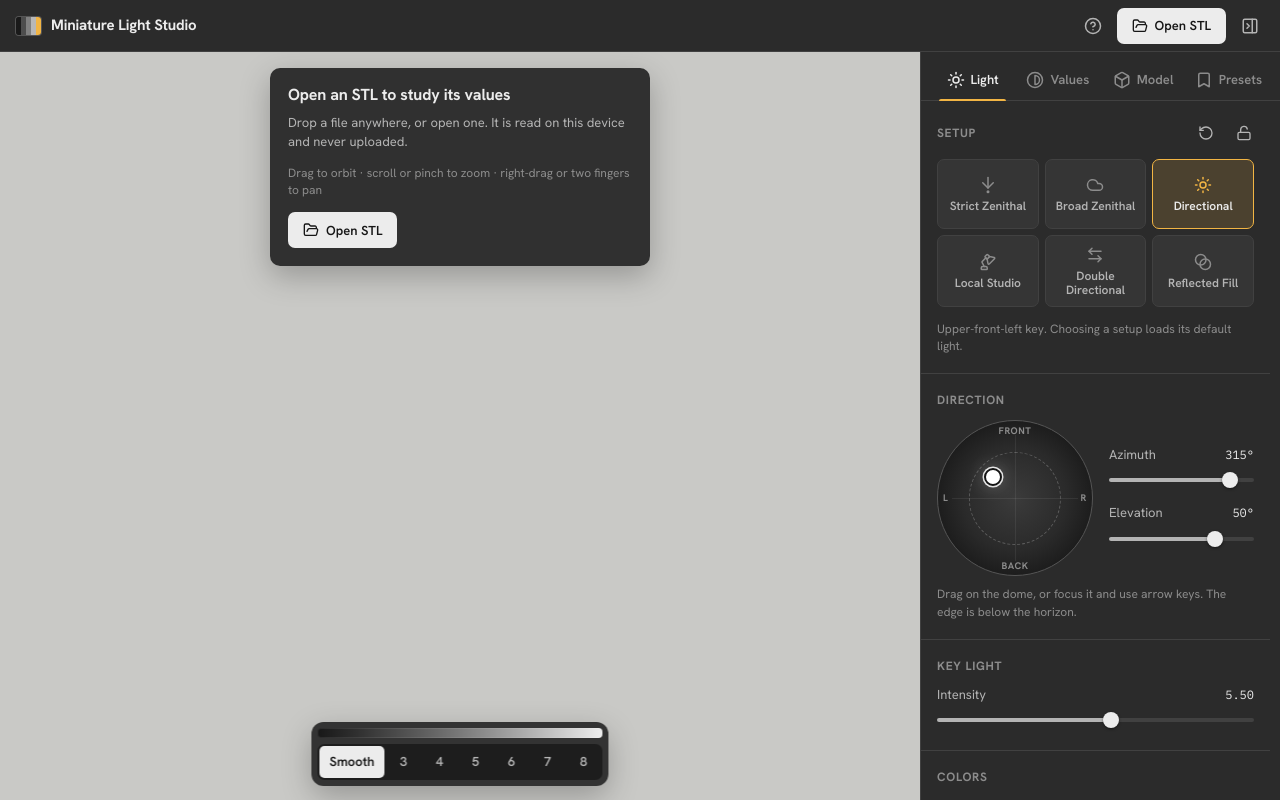
AppShell › hides and shows the desktop inspector
What coordinates should you click on to do the following:
click the button named "Hide controls"
I would click on:
 (1250, 26)
Its box is [1232,8,1268,44].
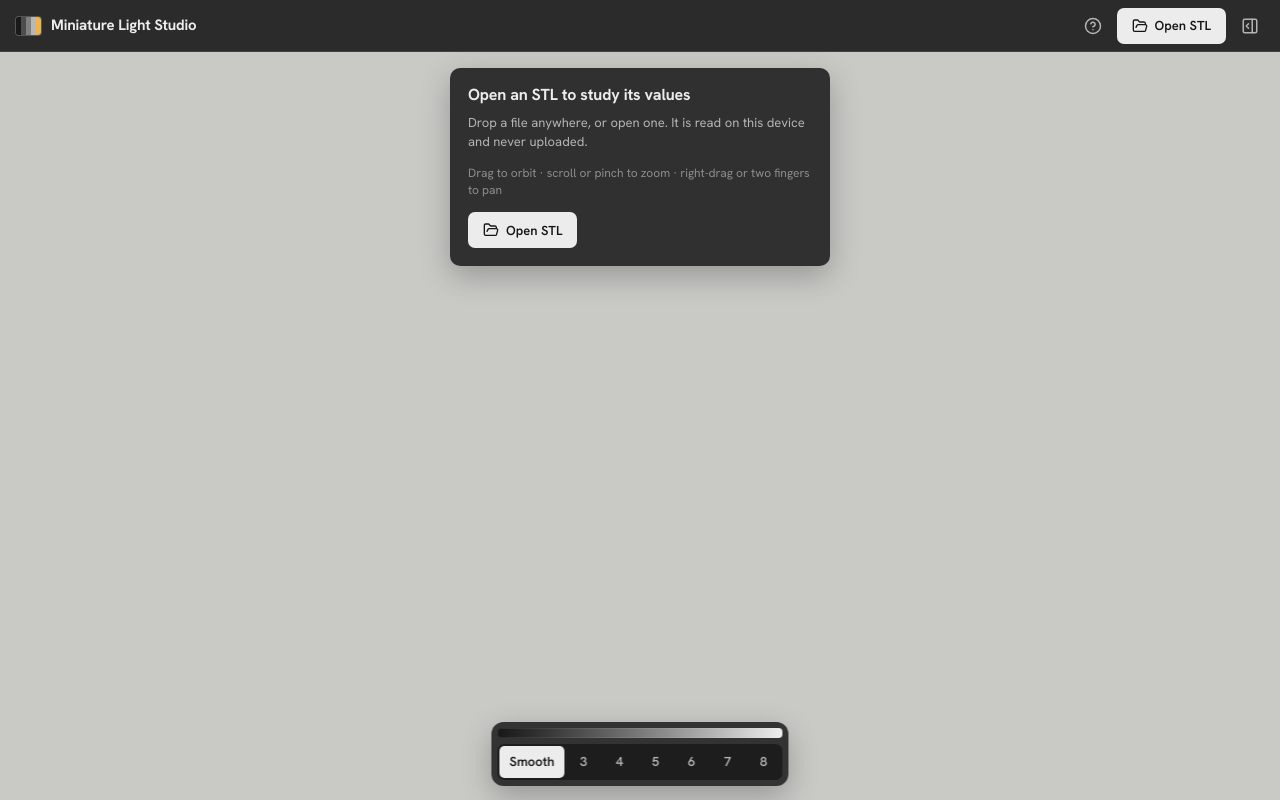
Expected: the element with id "inspector" is gone
What coordinates should you click on to do the following:
click the button named "Show controls"
I would click on:
 (1250, 26)
Its box is [1232,8,1268,44].
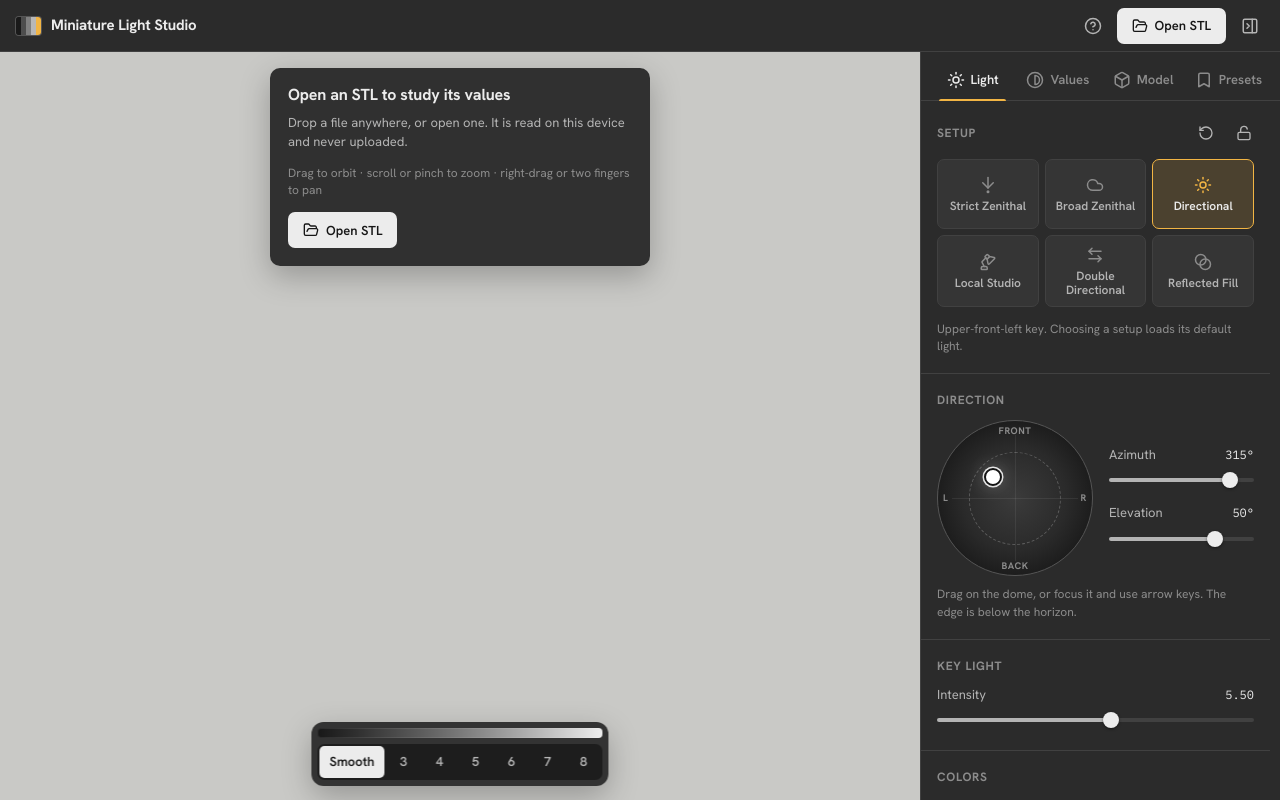
Expected: the element with id "inspector" is shown, [920,52,1279,799]
